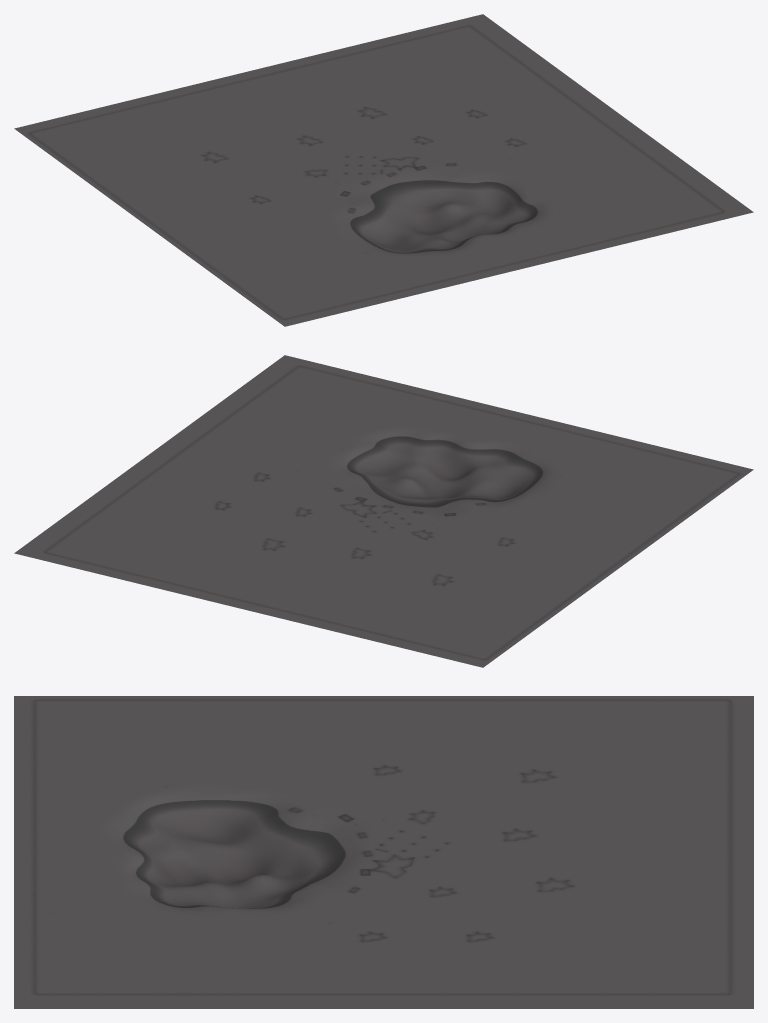
File: ground.glb
3 renders of one model, top to bottom at view 1: azimuth 30°, elevation 25°; view 2: azimuth 150°, elevation 25°; view 3: azimuth 270°, elevation 25°, orthographic. The views are drawn at different scales.
Parts seen in each view (by area): view 1: Plane; view 2: Plane; view 3: Plane.
Boxes of the visible parts, x1=… form: Plane: x1=14, y1=14, x2=753, y2=326; Plane: x1=14, y1=355, x2=753, y2=667; Plane: x1=14, y1=696, x2=753, y2=1008.
Size of the model in its own units: 139 by 6.05 by 139.
Materials: 1 (1 with a texture image).
